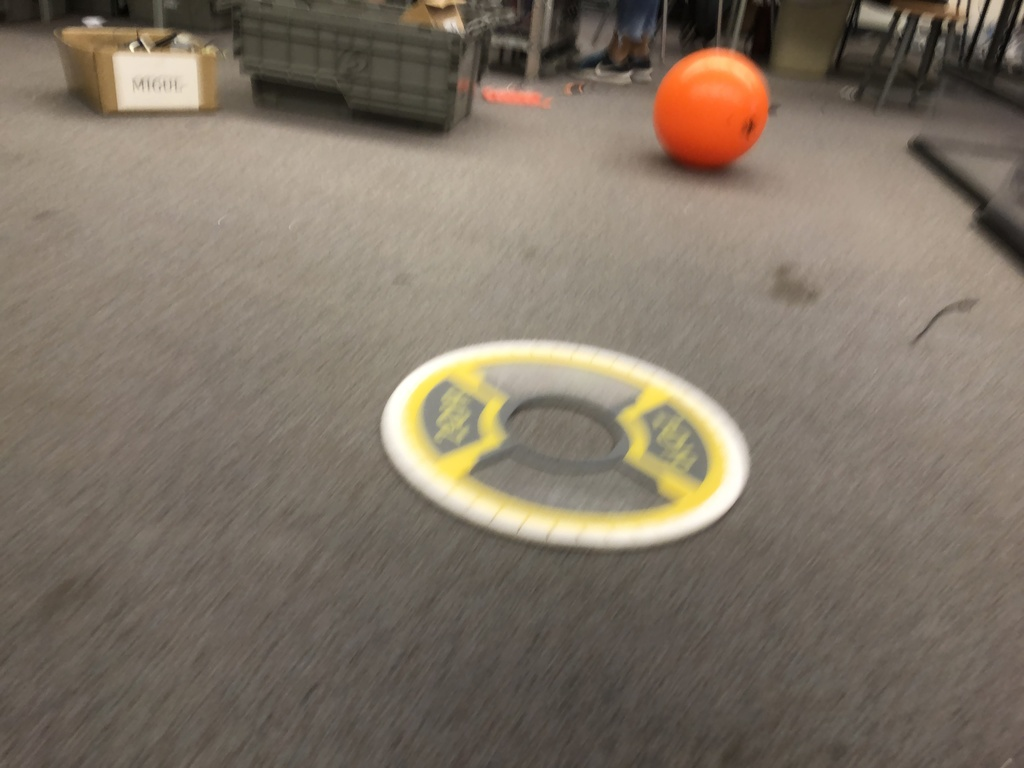hatch_panel: (362, 332, 767, 556)
